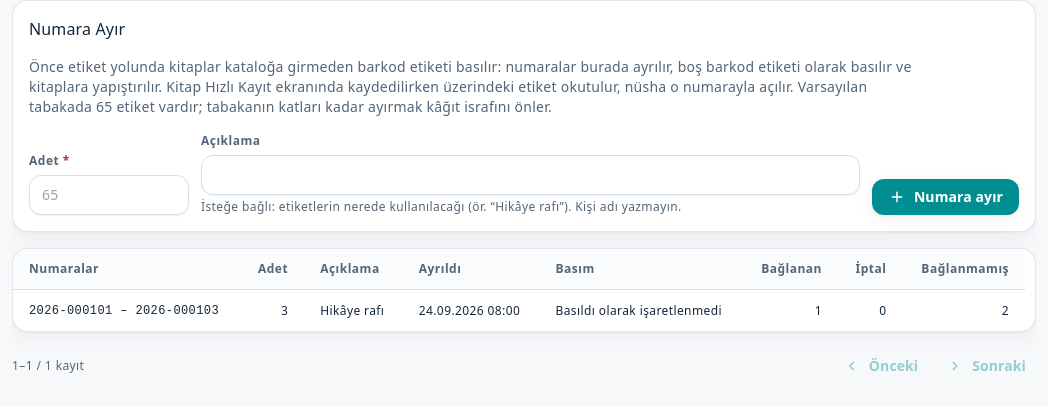
Test: Boş Barkod Aralığı — ayırma › adet sınır dışındaysa istek çıkmaz
Type "0" into the field labelled "Adet *".
click(109, 195); type("0")  # box left=42, top=185, right=176, bottom=205
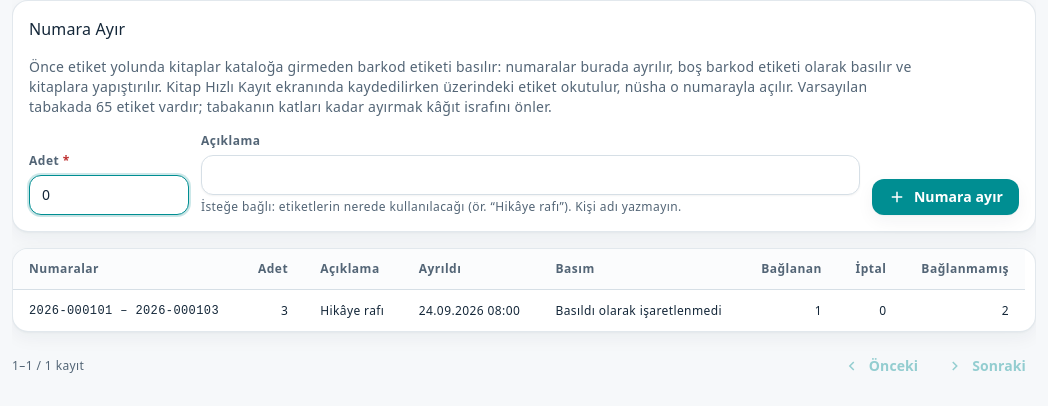
Click the button "Numara ayır".
click(945, 197)  # box left=872, top=179, right=1019, bottom=215
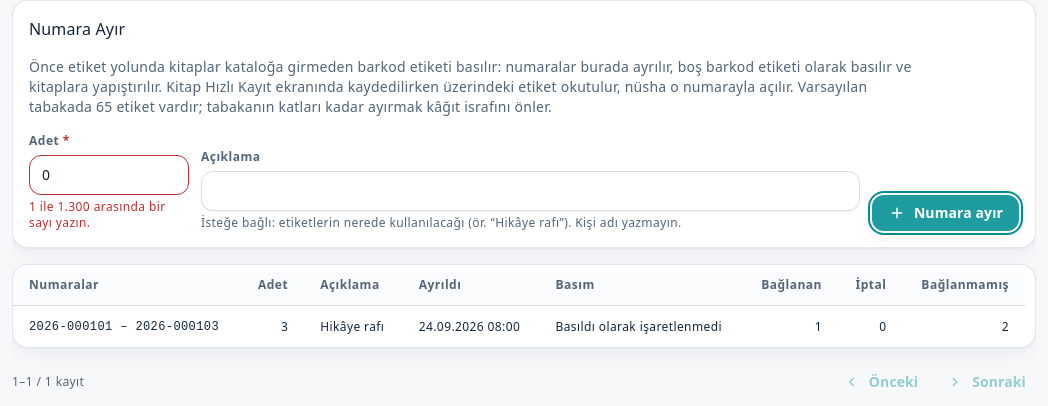
Now the text "1 ile 1.300 arasında bir sayı yazın." is shown, box left=29, top=199, right=189, bottom=231
